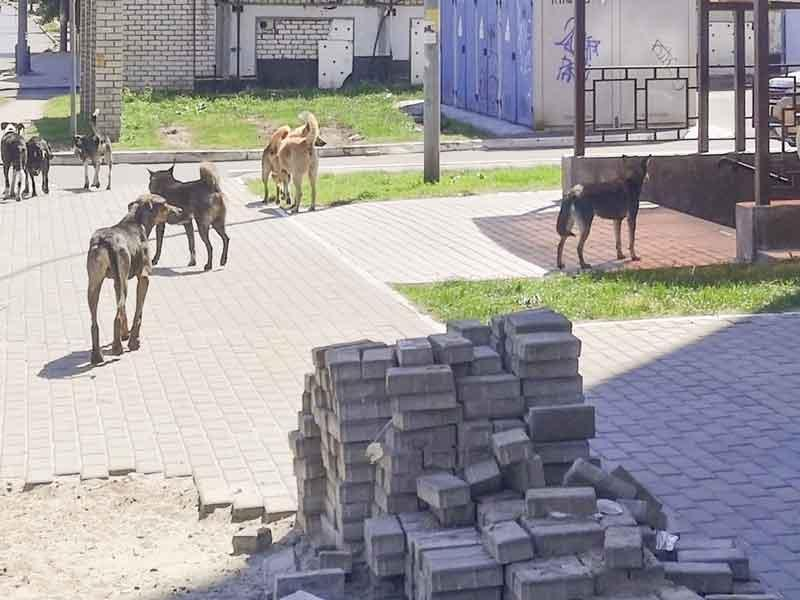normal_dogs: (87, 191, 184, 368), (555, 152, 656, 272), (144, 159, 234, 269), (282, 111, 334, 216), (72, 107, 118, 193), (257, 120, 293, 204), (0, 119, 28, 203), (23, 127, 55, 196)
